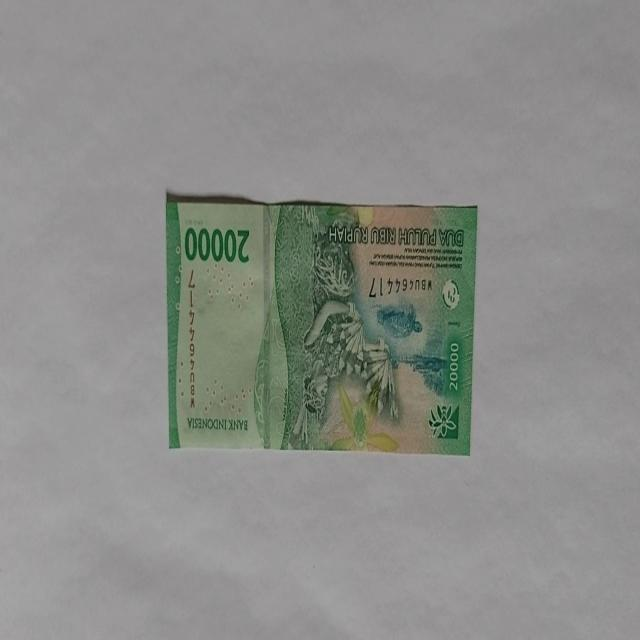dua puluh ribu rupiah: (165, 194, 478, 456), (252, 202, 400, 450)
